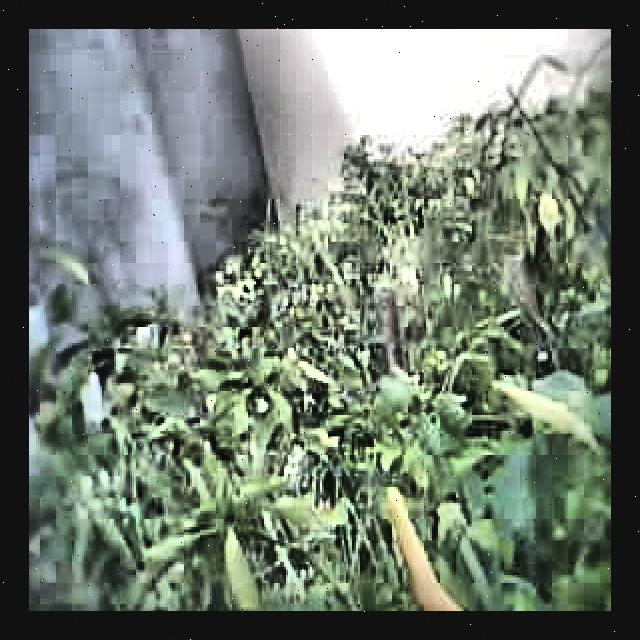Cabai: (386, 504, 471, 611)
